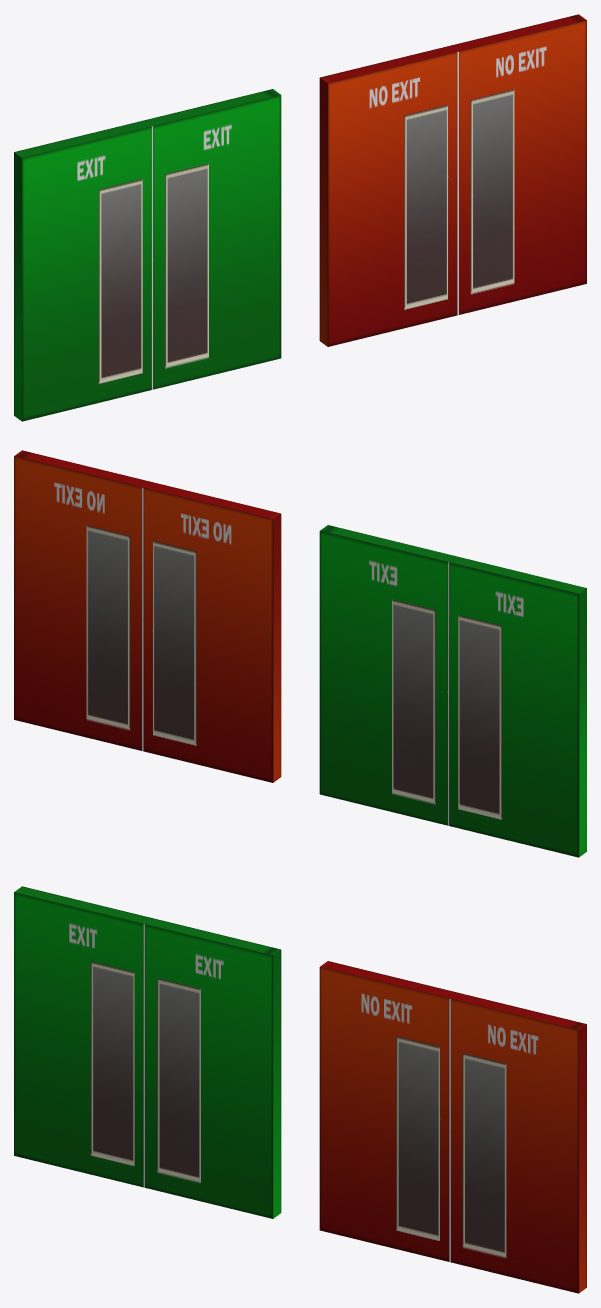
The model's file is DoorGreenRed.fbx.
3 views of the same model, one above another, from view 1: azimuth 30°, elevation 25°; view 2: azimuth 150°, elevation 25°; view 3: azimuth 330°, elevation 25° (orthographic).
Visible parts, largest first — view 1: DoorExit; view 2: DoorExit; view 3: DoorExit.
Part boxes in pixels (x1,y1,x2,y2): DoorExit: [14, 14, 586, 421]; DoorExit: [14, 450, 586, 857]; DoorExit: [14, 886, 586, 1293].
Bounding box in the file's own units: 86.95 × 38.77 × 2.17.
1 material, 1 textured.
